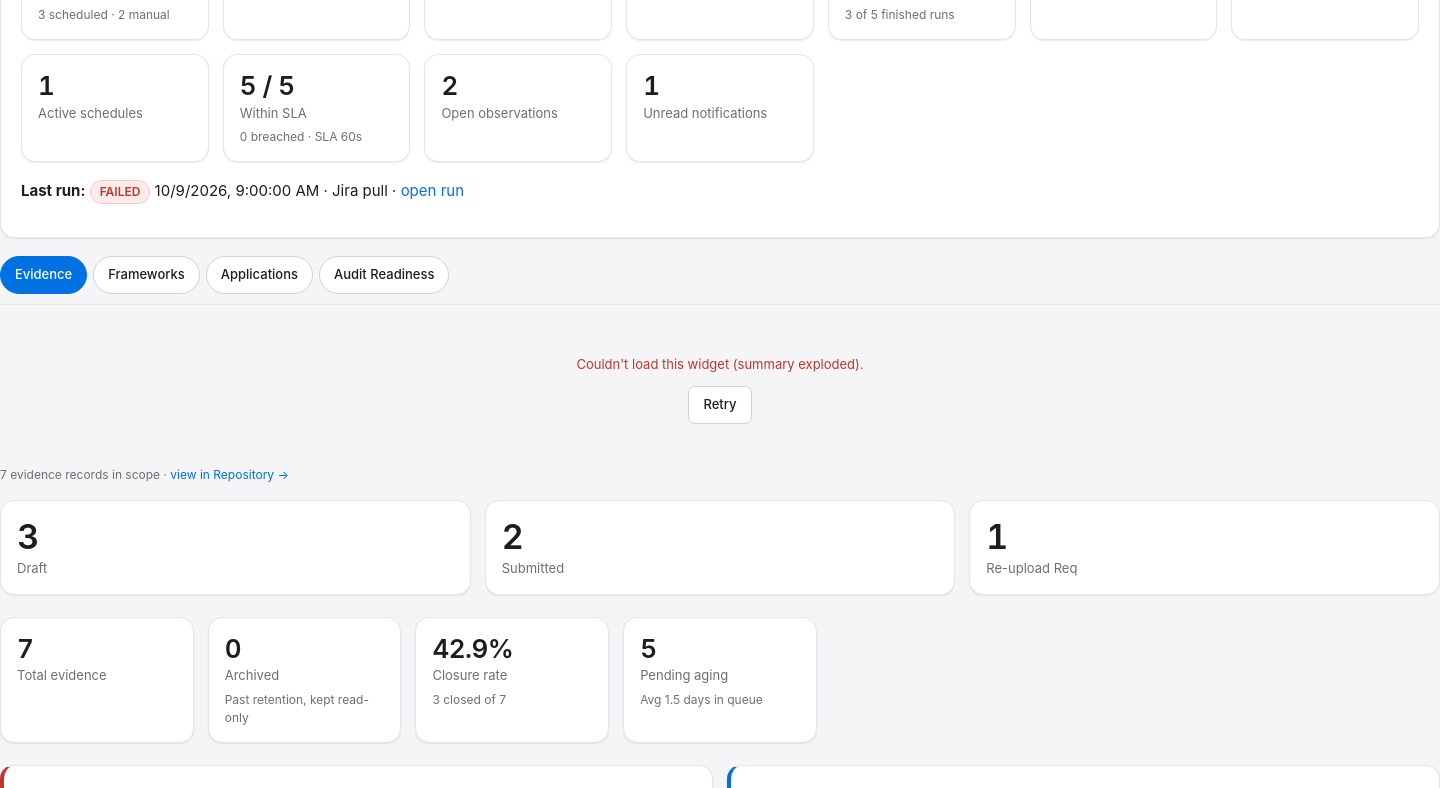
Test case: Dashboard — App Owner › one failing widget shows its own Retry while the others stay on live data (no mock banner)
This screenshot has width=1440, height=788.
(page scrolled)
Check: the element named "Evidence in scope" shows "7 evidence records in scope", box [0,467,289,482]
Check: the text "Couldn't load this widget (summary exploded)." is shown, box [576,355,864,374]
Click the button "Retry" at [720, 405], box [688,386,752,424]
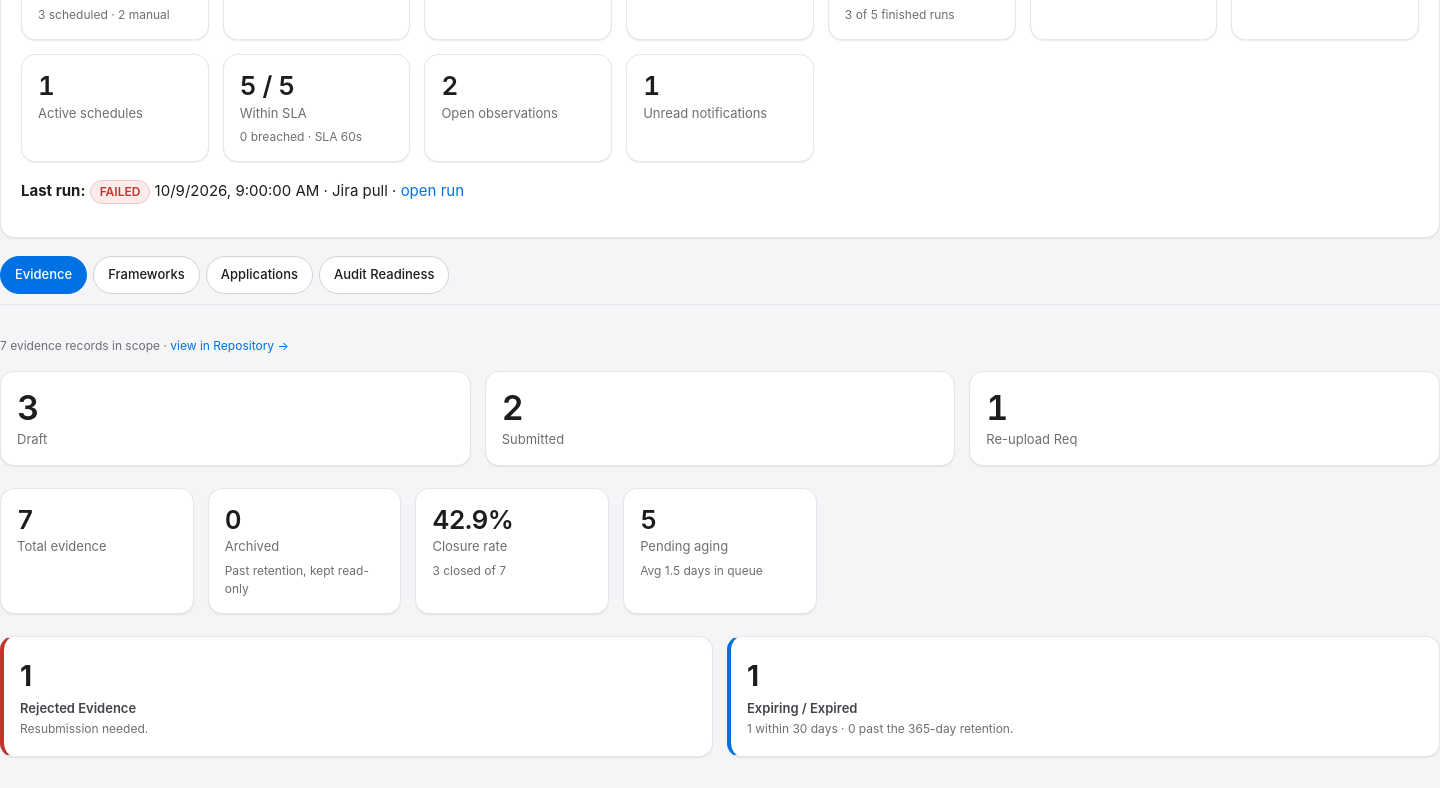
Check: the element named "Evidence in scope" shows "7 evidence records in scope", box [0,338,289,353]
Check: the text "Couldn't load this widget" is gone
